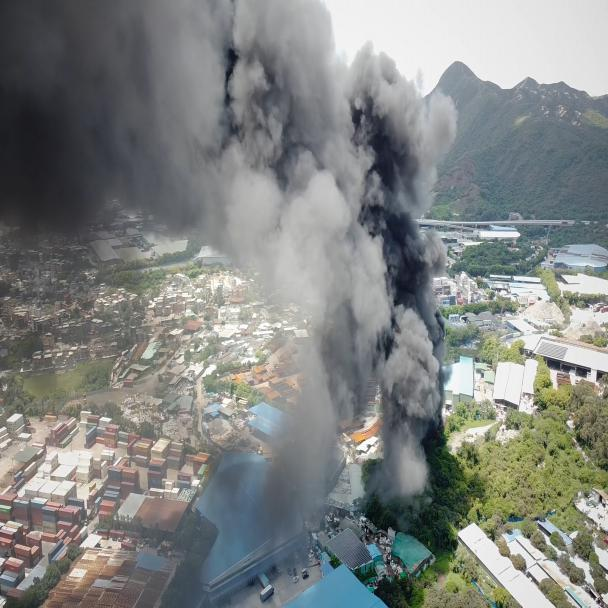smoke: (0, 0, 454, 579)
